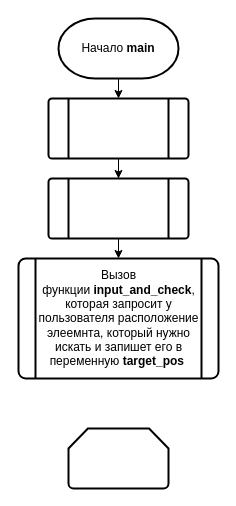
Some shapes in this 236 by 506 pixel diagram are drawn without their labels. Each missing label, with the centre of its shape:
Инициализация генератора случайных чисел: the point at 118,208
Установка русского языка: the point at 118,128
